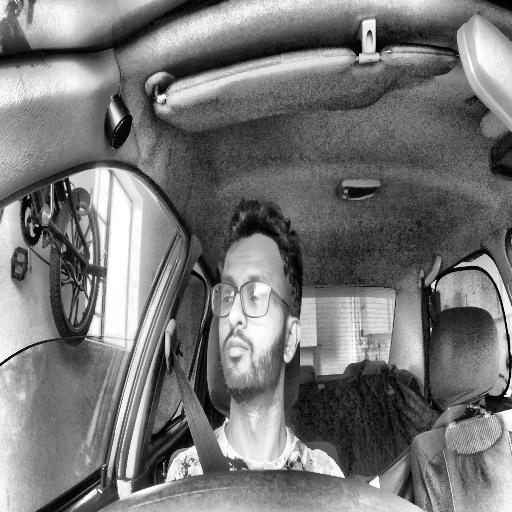awake: (210, 198, 304, 404)
